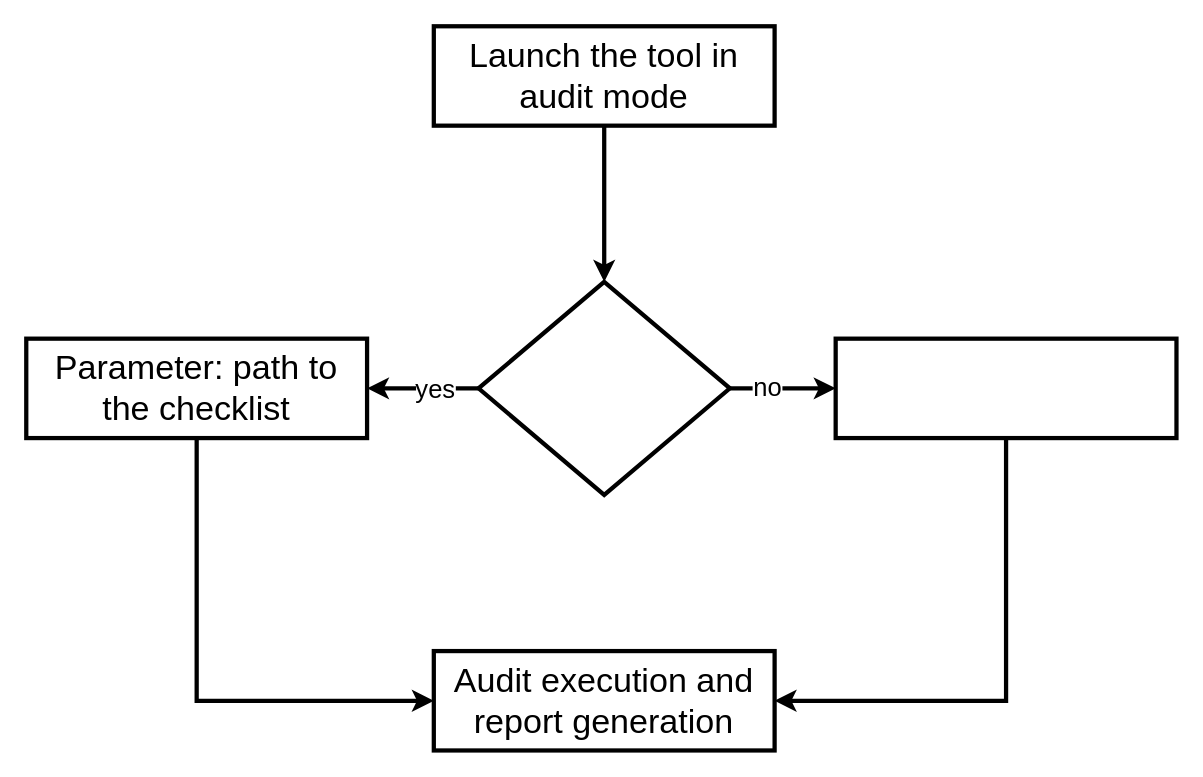
This 1203x777 diagram has some shape labels left out. The shapes that lost their labels are listed below. From the top down, each one's centre as x and y in pixels, then its label:
pixel 603 387: Personal checklist ?
pixel 1005 387: Parameter: checklist defined in the tool
